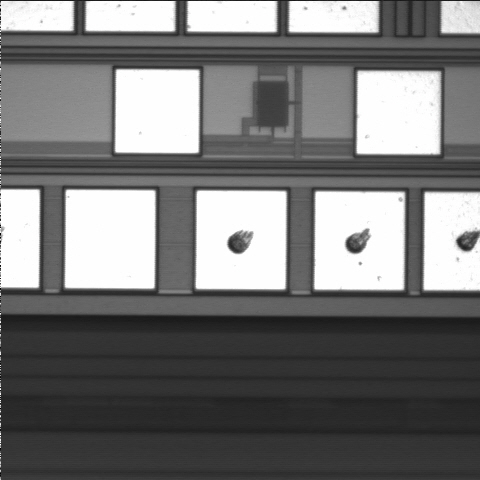pad: (314, 192, 405, 290), (65, 190, 155, 289), (196, 191, 286, 289), (115, 70, 199, 153), (357, 71, 440, 154)
